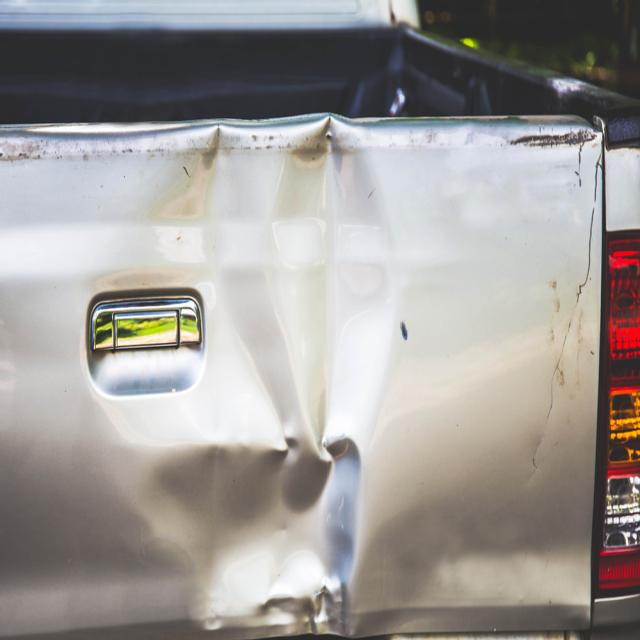Cabossage: (208, 115, 397, 448), (145, 424, 370, 640), (380, 513, 602, 639), (151, 170, 208, 267)
Dechirure: (534, 140, 604, 473)
Rayure: (491, 122, 601, 156), (398, 307, 412, 347)
